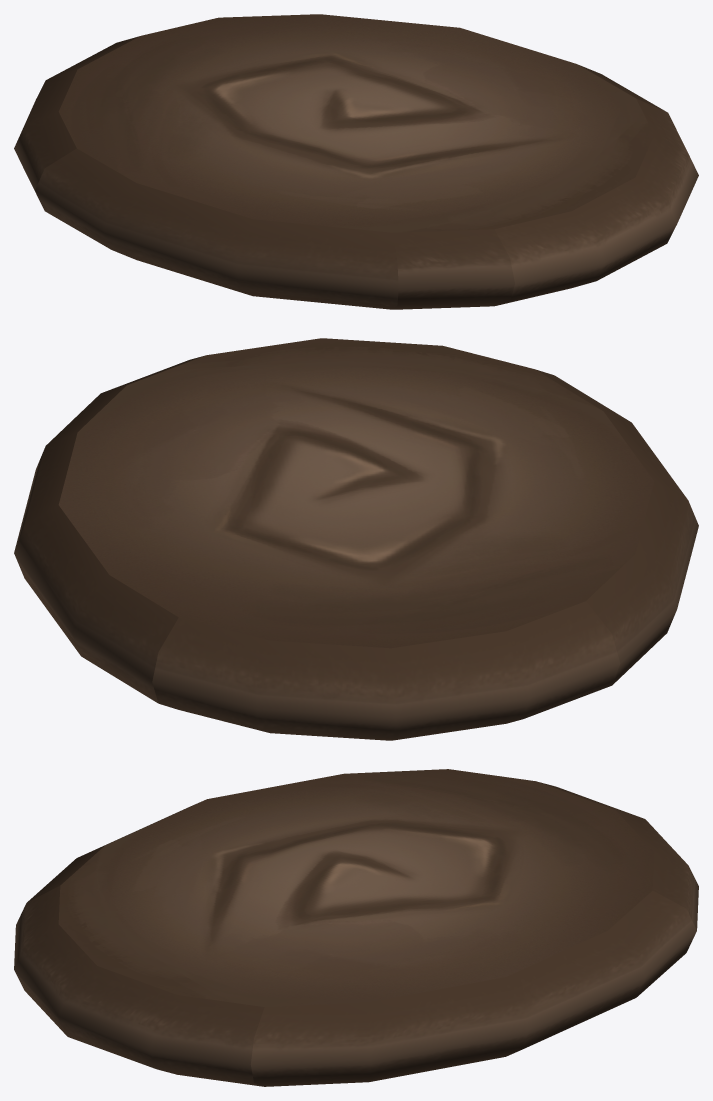
The model's file is flat stone.fbx.
3 renders of one model, top to bottom at view 1: azimuth 30°, elevation 25°; view 2: azimuth 150°, elevation 25°; view 3: azimuth 270°, elevation 25°, orthographic. The views are drawn at different scales.
Visible parts, largest first — view 1: environment:flat_rock; view 2: environment:flat_rock; view 3: environment:flat_rock.
Boxes of the visible parts, x1,y1,x2,y2 form: environment:flat_rock: (14, 14, 698, 309); environment:flat_rock: (14, 338, 698, 740); environment:flat_rock: (14, 769, 698, 1086).
Bounding box in the file's own units: 1.32 × 0.2642 × 1.39.
